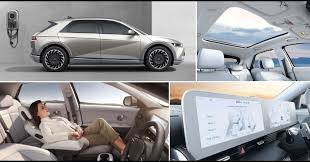Honda Ioniq: (27, 9, 189, 79)
